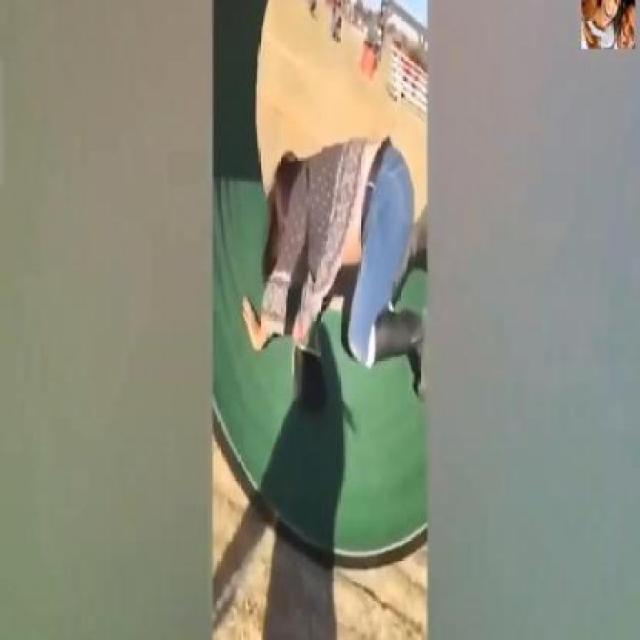fall: (246, 130, 429, 402)
